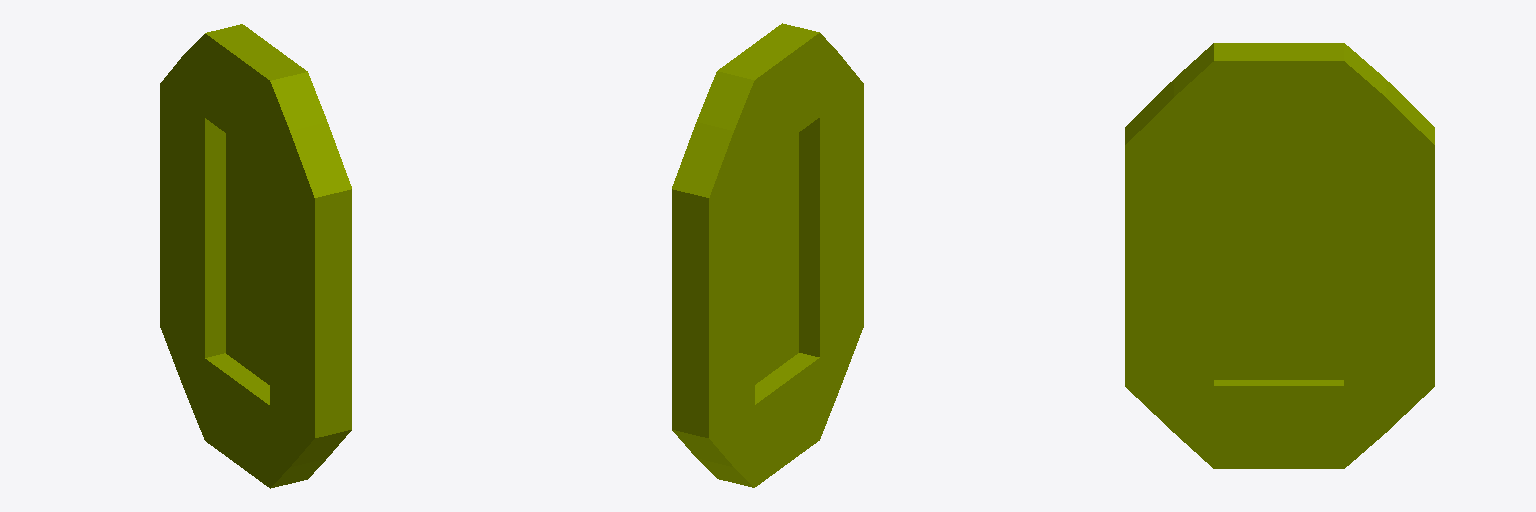
The model's file is coin.obj.
The picture shows the model from 3 angles: view 1: azimuth 30°, elevation 25°; view 2: azimuth 150°, elevation 25°; view 3: azimuth 270°, elevation 25°; orthographic projection.
Parts seen in each view (by area): view 1: Cube_Cube.001; view 2: Cube_Cube.001; view 3: Cube_Cube.001.
Boxes of the visible parts, <box> form: Cube_Cube.001: <box>160,24,351,488</box>; Cube_Cube.001: <box>672,23,863,487</box>; Cube_Cube.001: <box>1125,43,1434,468</box>.
Bounding box in the file's own units: 0.1935 × 2 × 1.38.